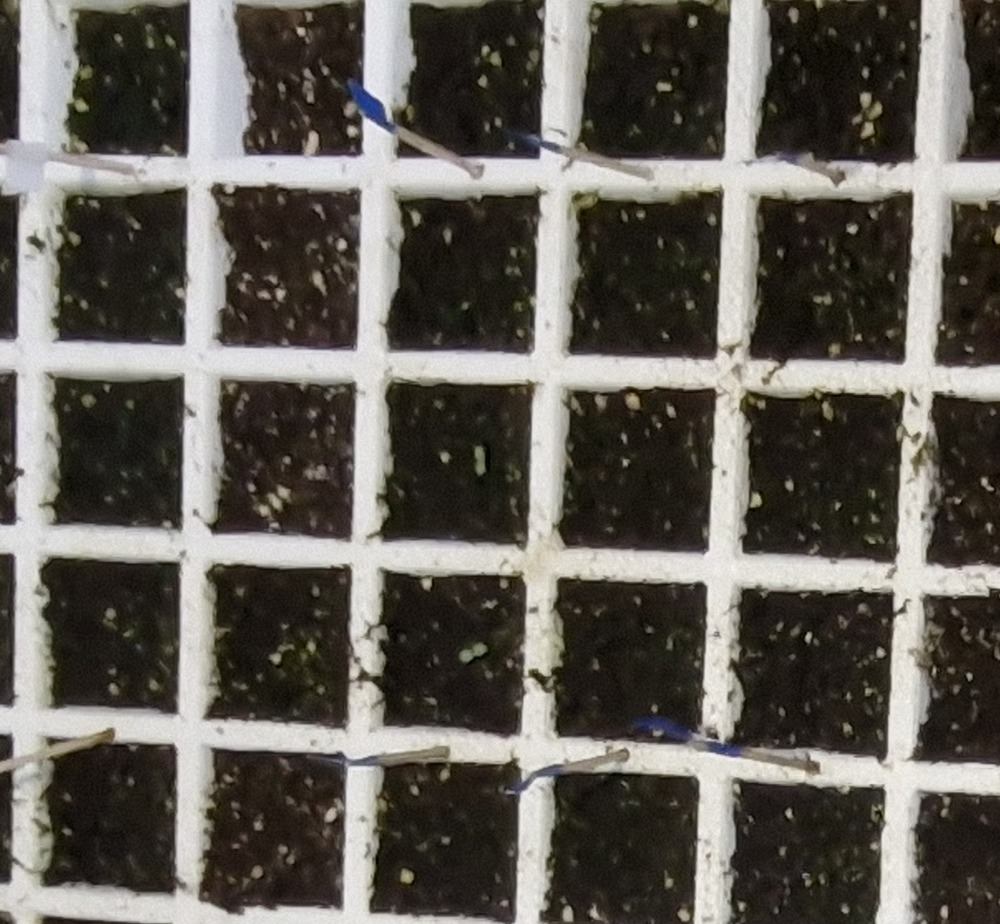Folha: (472, 642, 487, 656), (460, 649, 474, 662), (474, 460, 486, 475), (474, 446, 486, 461)
Germinacao: (458, 642, 488, 662), (473, 446, 487, 476)
